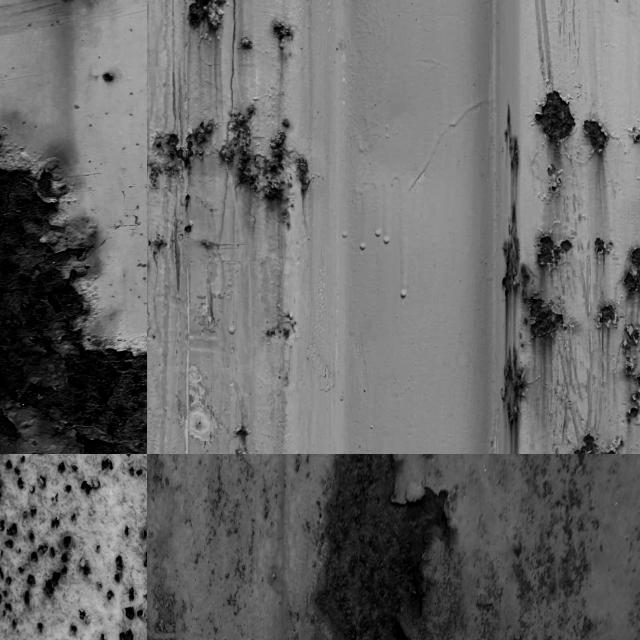Pitting Corrosion: (0, 97, 147, 454), (501, 63, 614, 422), (0, 454, 147, 640), (315, 454, 444, 640)
